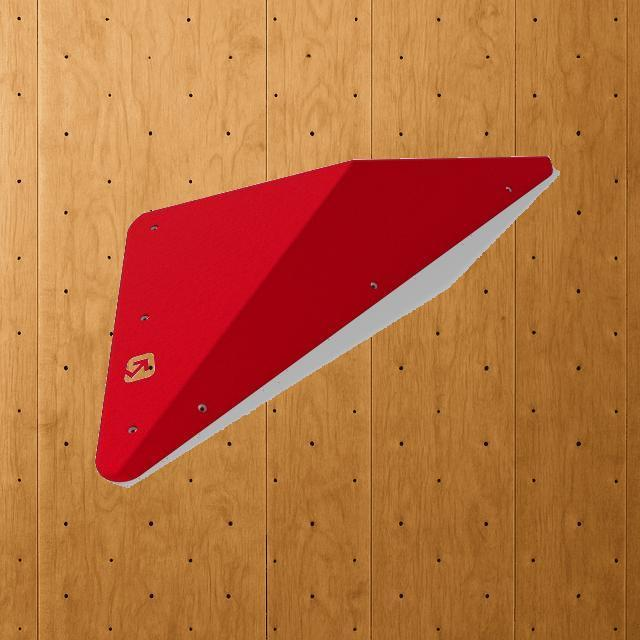Volume: (94, 155, 554, 483)
